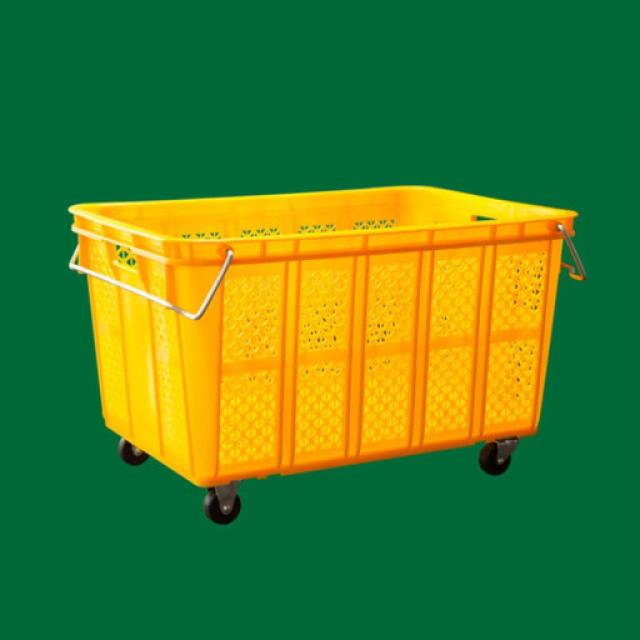basket: (71, 182, 583, 491)
